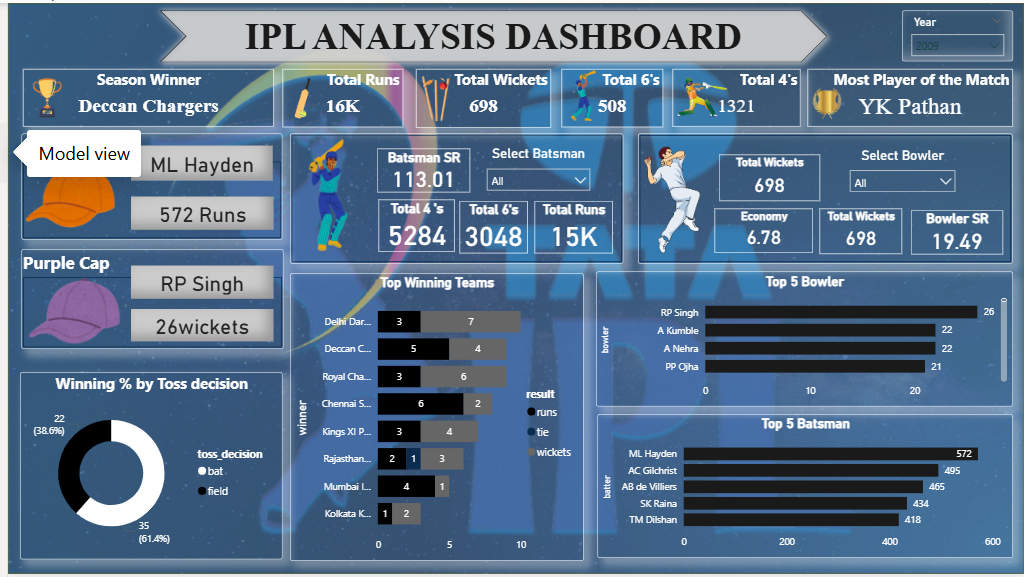

Layout of this report page (visuals, bound fields, positions):
{"tool":"powerbi","page":{"name":"Page 1","canvas":[1280,720],"ordinal":0},"visuals":[{"type":"shape","box":[356,164,420,164],"z":0},{"type":"shape","title":"Orange Cap","box":[16.8,163.7,328.9,134.2],"z":1000},{"type":"shape","box":[182,0,860,84],"z":2000},{"type":"slicer","fields":{"Values":["Date_Table.Year"]},"box":[1126,10,140,64],"z":3000},{"type":"card","title":"Season Winner","fields":{"Values":["Date_Table.SeasonWinner"]},"box":[18.8,83.8,316.2,72.5],"z":4000},{"type":"card","title":"Total Runs","fields":{"Values":["Sum(deliveries.total_runs)"]},"box":[346.7,83.3,151.7,73.3],"z":5000},{"type":"card","title":"Total Wickets","fields":{"Values":["Sum(deliveries.is_wicket)"]},"box":[513.8,83.8,170,73.8],"z":6000},{"type":"card","title":"Total 6''s","fields":{"Values":["CountNonNull(deliveries.batsman_runs)"]},"box":[697.8,83.3,127.8,73.3],"z":7000},{"type":"card","title":"Total 4''s","fields":{"Values":["CountNonNull(deliveries.batsman_runs)"]},"box":[836.4,83.6,161.4,72.9],"z":8000},{"type":"card","title":"Most Player of the Match","fields":{"Values":["Min(matches.player_of_match)"]},"box":[1007.5,83.8,258.8,72.5],"z":9000},{"type":"card","fields":{"Values":["Date_Table.Orange cap"]},"box":[155.9,244.1,179.4,41.8],"z":10000},{"type":"card","fields":{"Values":["Min(deliveries.batter)"]},"box":[155.7,180,178.6,44.3],"z":11000},{"type":"image","box":[16.8,182.1,125.8,124.2],"z":12000},{"type":"image","box":[16.7,75,65,88.3],"z":13000},{"type":"image","box":[316.7,83.3,106.7,73.3],"z":14000},{"type":"image","box":[498.3,83.3,80,78.3],"z":15000},{"type":"image","box":[683.2,78.2,84.3,78.2],"z":16000},{"type":"image","box":[835,72.1,78.6,97.9],"z":17000},{"type":"shape","title":"Purple Cap","box":[16.2,310,330,126.2],"z":18000},{"type":"card","fields":{"Values":["Min(deliveries.bowler)"]},"box":[155.5,330.9,179.1,41.8],"z":19000},{"type":"card","fields":{"Values":["Date_Table.Purple Cap"]},"box":[155.5,385.5,179.1,40.9],"z":20000},{"type":"image","box":[0,339,170,100],"z":21000},{"type":"image","box":[997.9,98.6,70,58.6],"z":22000},{"type":"donutChart","title":"Winning % by Toss decision","fields":{"Category":["matches.toss_decision"],"Y":["CountNonNull(matches.winner)"]},"box":[15.1,464.9,330.7,236.2],"z":23000},{"type":"barChart","title":"Top 5 Bowler","fields":{"Category":["deliveries.bowler"],"Y":["Sum(deliveries.is_wicket)"]},"box":[740.8,338.3,525.4,170.1],"z":24000},{"type":"barChart","title":"Top 5 Batsman","fields":{"Category":["deliveries.batter"],"Y":["Sum(deliveries.batsman_runs)"]},"box":[742.7,517.8,523.5,181.4],"z":25000},{"type":"barChart","title":"Top Winning Teams","fields":{"Category":["matches.winner"],"Y":["CountNonNull(matches.winner)"],"Series":["matches.result"]},"box":[355,340,370,362.5],"z":26000},{"type":"image","box":[313.8,161.5,168.5,162.3],"z":27000},{"type":"slicer","title":"Select Batsman","fields":{"Values":["deliveries.batter"]},"box":[592.5,180,150,57.5],"z":30000},{"type":"card","title":"Total Runs","fields":{"Values":["Sum(deliveries.batsman_runs)"]},"box":[662.9,248.6,98.6,65.7],"z":31000},{"type":"card","title":"Total 4 ''s","fields":{"Values":["Sum(deliveries.batsman_runs)"]},"box":[466,248,96,66],"z":32000},{"type":"card","title":"Total 6''s","fields":{"Values":["Sum(deliveries.batsman_runs)"]},"box":[568.6,248.6,85.7,65.7],"z":33000},{"type":"card","title":"Batsman SR","fields":{"Values":["Date_Table.Batsman SR"]},"box":[465,182.5,117.5,55],"z":34000},{"type":"shape","box":[794,164,472,164],"z":37000},{"type":"slicer","title":"Select Bowler","fields":{"Values":["deliveries.bowler"]},"box":[1050,181.4,152.9,70],"z":38500},{"type":"card","title":"Total Wickets","fields":{"Values":["Sum(deliveries.is_wicket)"]},"box":[1021.4,258.6,104.3,57.1],"z":39000},{"type":"card","title":"Economy","fields":{"Values":["deliveries.Bowling Economy"]},"box":[890,258,124,56],"z":39500},{"type":"card","title":"Total Wickets","fields":{"Values":["Sum(deliveries.is_wicket)"]},"box":[895.7,190,127.1,58.6],"z":40000},{"type":"image","box":[776,176,120,144],"z":40500},{"type":"card","title":"Bowler SR","fields":{"Values":["Date_Table.Bowler SR"]},"box":[1137.1,260,115.7,55.7],"z":41001}]}

Visuals, with their boxes in screenshot pixels (x1, y1, x2, y2), scaled from the page's 1280x720 canvas onto the 1024x577 screenshot:
shape: (285,131,621,263)
"Orange Cap" shape: (13,131,277,239)
shape: (146,0,834,67)
slicer - Date_Table.Year: (901,8,1013,59)
"Season Winner" card: (15,67,268,125)
"Total Runs" card: (277,67,399,125)
"Total Wickets" card: (411,67,547,126)
"Total 6''s" card: (558,67,660,125)
"Total 4''s" card: (669,67,798,125)
"Most Player of the Match" card: (806,67,1013,125)
card - Date_Table.Orange cap: (125,196,268,229)
card - Min(deliveries.batter): (125,144,267,180)
image: (13,146,114,245)
image: (13,60,65,131)
image: (253,67,339,125)
image: (399,67,463,130)
image: (547,63,614,125)
image: (668,58,731,136)
"Purple Cap" shape: (13,248,277,350)
card - Min(deliveries.bowler): (124,265,268,299)
card - Date_Table.Purple Cap: (124,309,268,342)
image: (0,272,136,352)
image: (798,79,854,126)
"Winning % by Toss decision" donutChart: (12,373,277,562)
"Top 5 Bowler" barChart: (593,271,1013,407)
"Top 5 Batsman" barChart: (594,415,1013,560)
"Top Winning Teams" barChart: (284,272,580,563)
image: (251,129,386,259)
"Select Batsman" slicer: (474,144,594,190)
"Total Runs" card: (530,199,609,252)
"Total 4 ''s" card: (373,199,450,252)
"Total 6''s" card: (455,199,523,252)
"Batsman SR" card: (372,146,466,190)
shape: (635,131,1013,263)
"Select Bowler" slicer: (840,145,962,201)
"Total Wickets" card: (817,207,901,253)
"Economy" card: (712,207,811,252)
"Total Wickets" card: (717,152,818,199)
image: (621,141,717,256)
"Bowler SR" card: (910,208,1002,253)
